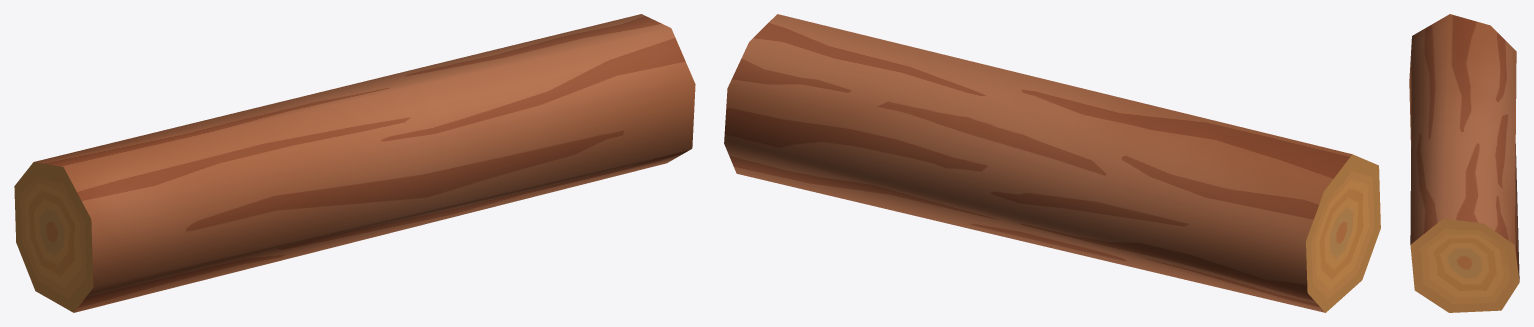
The model's file is log-raw-and-pleed.fbx.
The picture shows the model from 3 angles, left to right: view 1: azimuth 30°, elevation 25°; view 2: azimuth 150°, elevation 25°; view 3: azimuth 270°, elevation 25°; orthographic projection. The views are drawn at different scales.
Visible parts, largest first — view 1: wood-stage-01-log; view 2: wood-stage-01-log; view 3: wood-stage-01-log.
Boxes of the visible parts, x1,y1,x2,y2 form: wood-stage-01-log: (14,14,695,312); wood-stage-01-log: (724,14,1380,312); wood-stage-01-log: (1409,14,1519,312).
Size of the model in its own units: 588 by 135 by 136.
